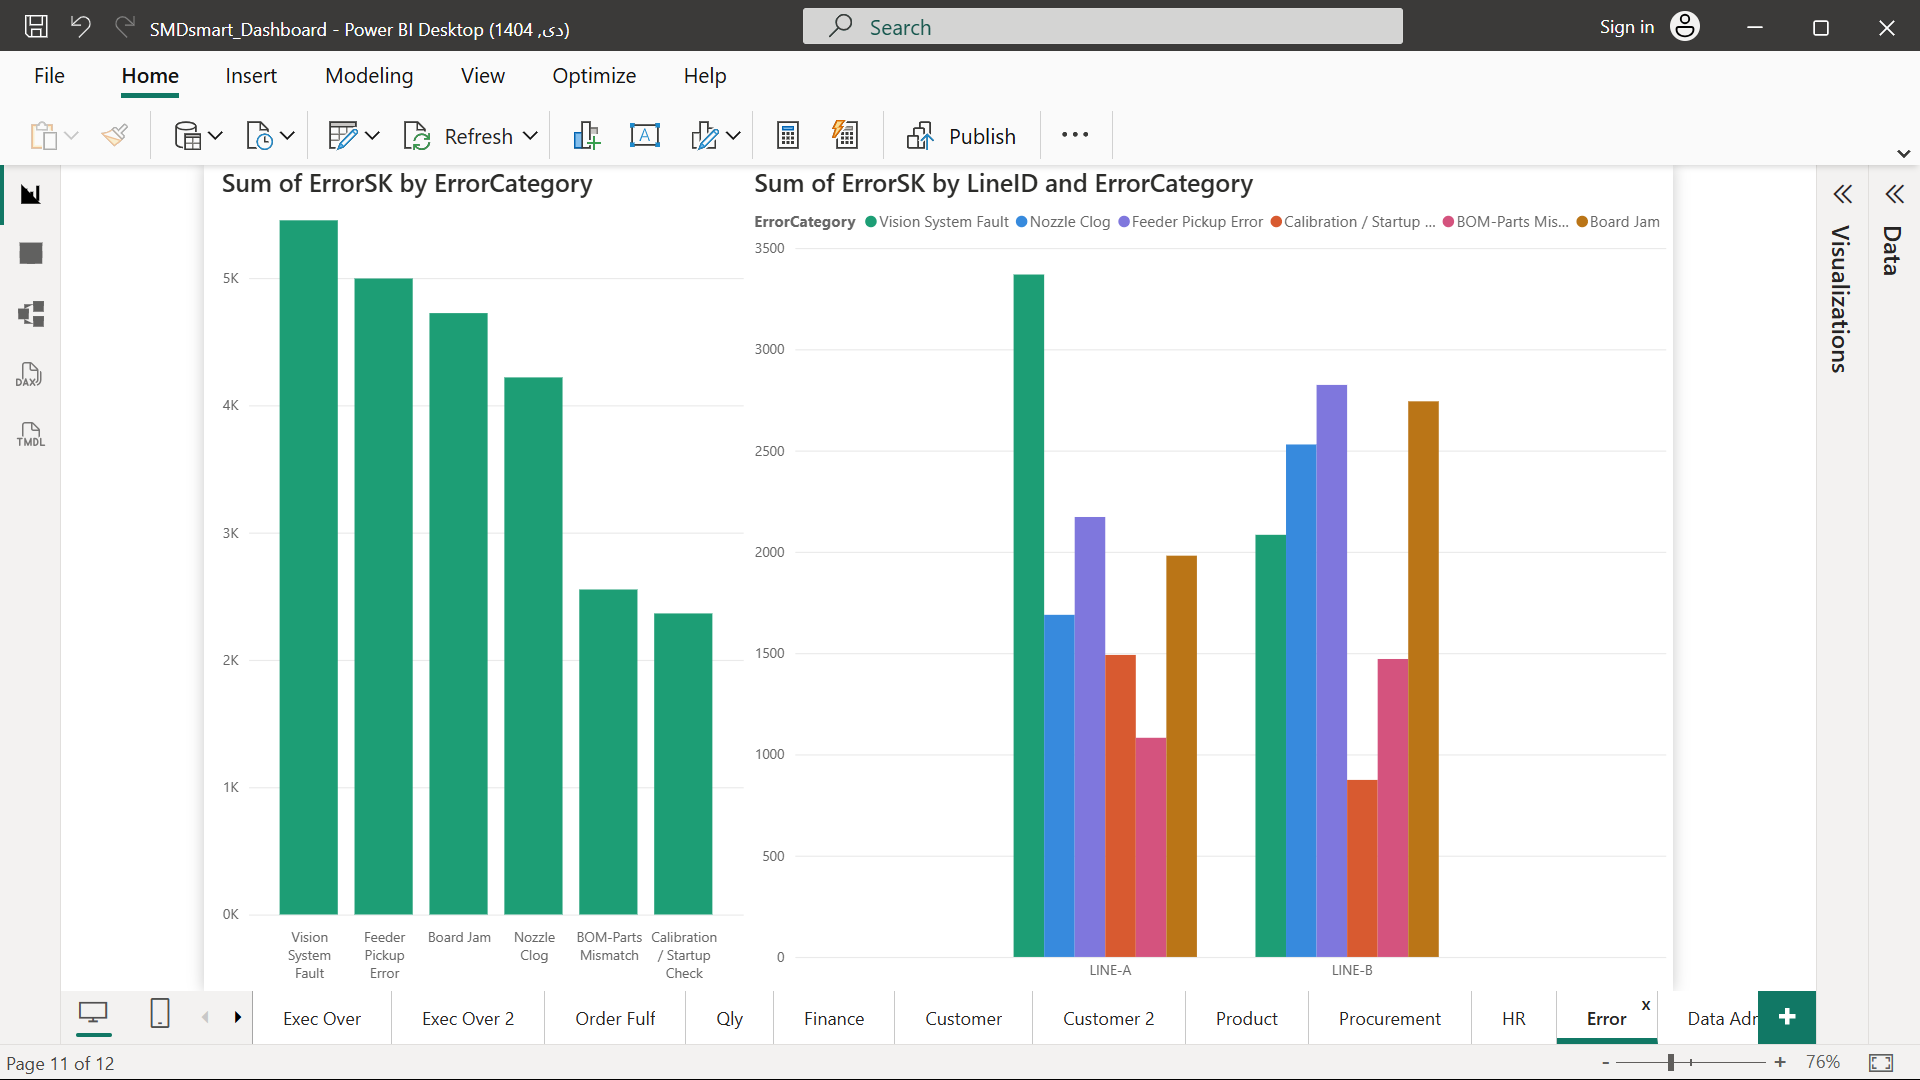

The dashboard page shown, as its layout file describes it:
{"tool":"powerbi","page":{"name":"Error","canvas":[1280,720],"ordinal":10},"visuals":[{"type":"clusteredColumnChart","fields":{"Y":["Sum(FactError.ErrorSK)"],"Category":["DimErrorCategory.ErrorCategory"]},"box":[10,0,465,720],"z":0},{"type":"clusteredColumnChart","fields":{"Y":["Sum(FactError.ErrorSK)"],"Category":["DimLine.LineID"],"Series":["DimErrorCategory.ErrorCategory"]},"box":[475,0,805,720],"z":1000}]}

Visuals, with their boxes on the page's 1280x720 design canvas (x1, y1, x2, y2). These are canvas units, not pixel positions in the 1920x1080 screenshot, which may show the page scaled, cropped or inside an application window:
clusteredColumnChart - Sum(FactError.ErrorSK) x DimErrorCategory.ErrorCategory: <region>10, 0, 475, 720</region>
clusteredColumnChart - Sum(FactError.ErrorSK) x DimLine.LineID: <region>475, 0, 1280, 720</region>
